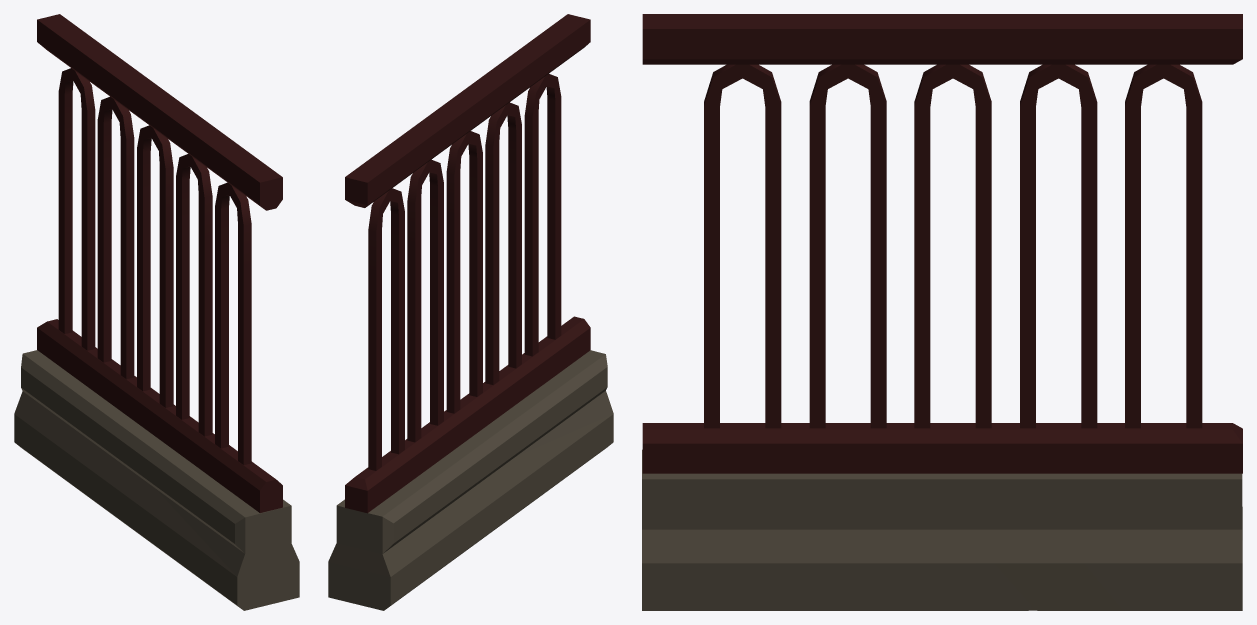
Rendered from P_BalconBar.FBX.
3 renders of one model, left to right at view 1: azimuth 30°, elevation 25°; view 2: azimuth 150°, elevation 25°; view 3: azimuth 270°, elevation 25°, orthographic. The views are drawn at different scales.
Visible parts, largest first — view 1: Box101; view 2: Box101; view 3: Box101.
Boxes of the visible parts, <box> form: Box101: <box>14,14,299,610</box>; Box101: <box>328,14,613,610</box>; Box101: <box>642,14,1242,610</box>.
Bounding box in the file's own units: 20.31 × 132 × 126.
